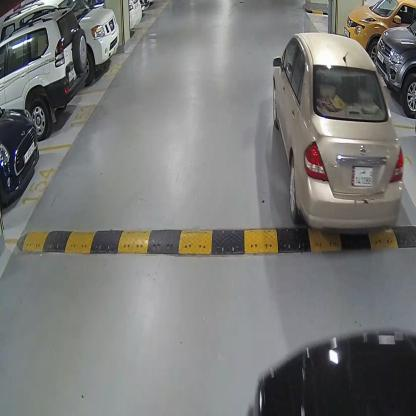np: (353, 164, 372, 185)
